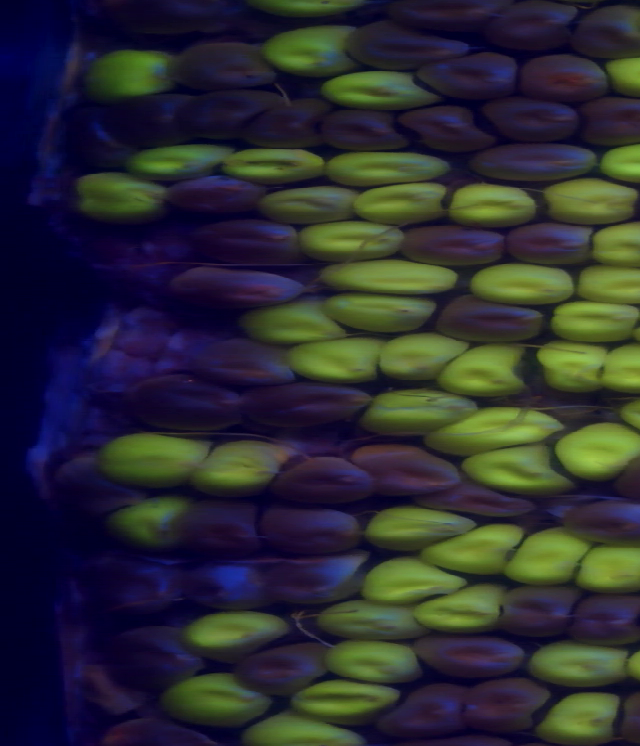fluorescent: (427, 400, 560, 457), (95, 422, 212, 485), (411, 577, 512, 637), (179, 608, 291, 661), (319, 65, 445, 111), (463, 257, 578, 307), (421, 527, 528, 580), (159, 673, 272, 723), (319, 293, 439, 340), (432, 347, 540, 399), (458, 446, 574, 494), (235, 707, 375, 746), (320, 260, 467, 297), (553, 415, 640, 477), (526, 640, 632, 690), (283, 338, 392, 386), (315, 635, 429, 680), (309, 599, 436, 639), (373, 330, 474, 380), (101, 496, 196, 549), (81, 53, 181, 103), (73, 174, 172, 222), (237, 303, 350, 345), (544, 177, 639, 226), (528, 692, 614, 746), (251, 183, 367, 223), (288, 676, 406, 715), (323, 148, 454, 183), (366, 507, 474, 549), (357, 392, 467, 433), (293, 220, 411, 257), (358, 555, 464, 596), (219, 145, 329, 184), (130, 140, 233, 180), (550, 299, 640, 344), (534, 342, 614, 392), (511, 530, 589, 581), (448, 183, 540, 226), (364, 181, 453, 225), (270, 30, 360, 69), (580, 541, 640, 594), (571, 265, 640, 305), (588, 225, 640, 267), (602, 340, 640, 390), (596, 142, 640, 185), (603, 57, 640, 99)
nonfluorescent: (125, 373, 245, 437), (239, 382, 374, 432), (168, 42, 288, 96), (166, 265, 297, 314), (515, 48, 617, 110), (103, 626, 205, 687), (351, 445, 466, 499), (410, 635, 534, 684), (433, 293, 549, 345), (470, 140, 602, 184), (372, 681, 475, 737), (423, 473, 538, 523), (271, 452, 380, 504), (346, 21, 471, 66), (480, 1, 578, 58), (192, 335, 299, 386), (189, 217, 302, 264), (454, 676, 552, 730), (393, 223, 516, 266), (480, 95, 586, 144), (63, 104, 139, 170), (160, 175, 274, 219), (319, 106, 415, 158), (258, 557, 365, 603), (257, 508, 366, 552), (418, 51, 523, 96), (92, 1, 222, 37), (184, 497, 263, 556), (104, 94, 190, 148), (494, 223, 597, 268), (179, 93, 275, 141), (232, 650, 337, 692), (395, 1, 501, 41), (494, 589, 584, 636), (246, 100, 328, 151), (406, 102, 491, 151), (101, 711, 215, 746), (105, 563, 188, 611), (184, 563, 274, 606), (568, 589, 640, 641), (578, 93, 640, 151), (558, 495, 640, 538), (565, 6, 640, 53)
